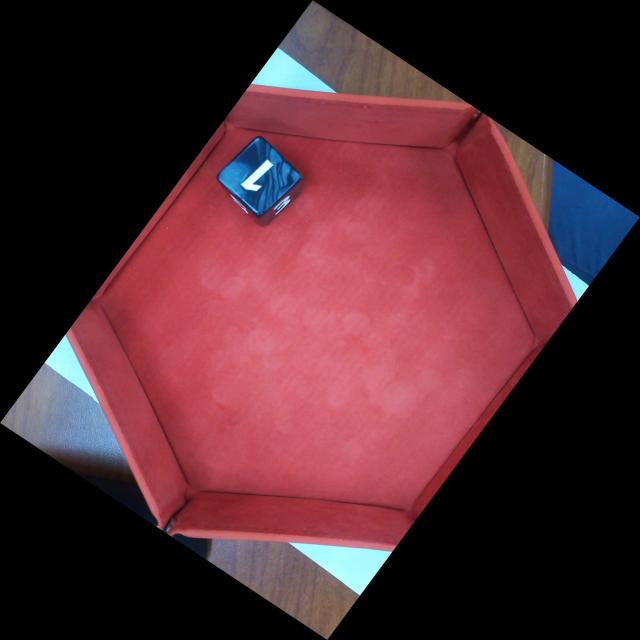dice: (212, 134, 305, 220)
